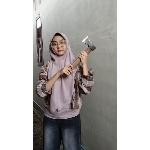Kapak: (66, 34, 98, 72)
